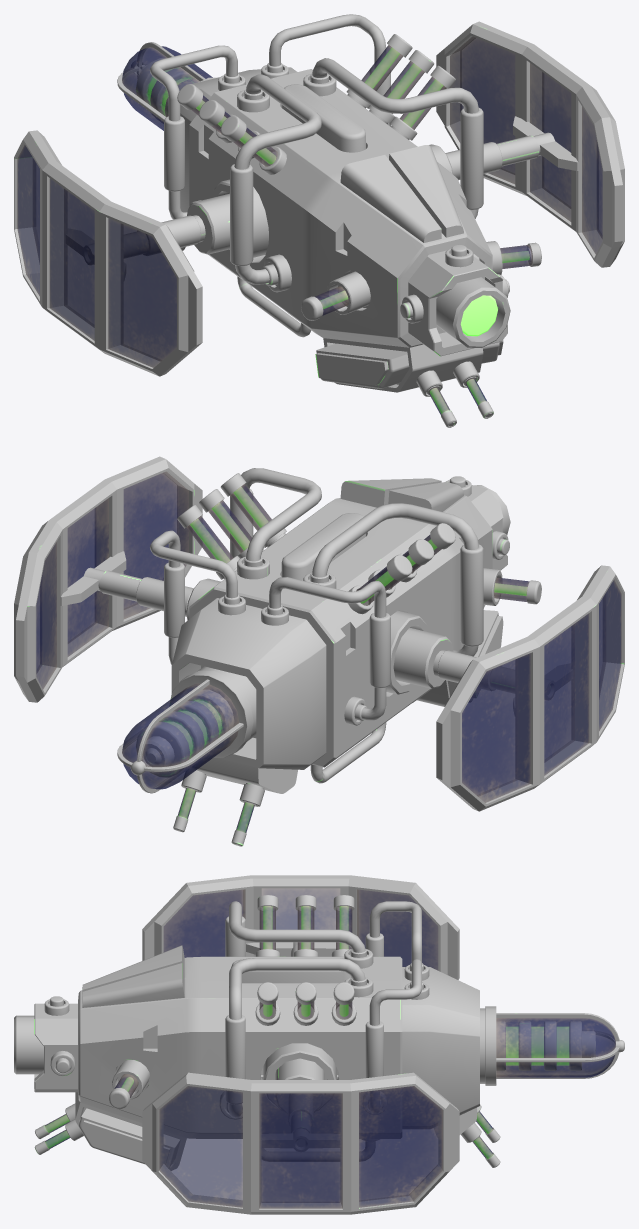
The picture shows the model from 3 angles, top to bottom: view 1: azimuth 30°, elevation 25°; view 2: azimuth 150°, elevation 25°; view 3: azimuth 270°, elevation 25°; orthographic projection. The views are drawn at different scales.
Parts seen in each view (by area): view 1: Main_Hull, Wings, Glass_Wing_Left, Glass_Wing_Right, Pipes_1, Pipes_2, Brackets, Front_Hull, Front_Lens, Wings_Outgoings, Glass_Back, Engine_Element (+18 smaller); view 2: Wings, Main_Hull, Back_Hull, Glass_Wing_Left, Glass_Wing_Right, Pipes_1, Pipes_2, Glass_Back, Brackets, Engine, Wings_Outgoings, Back_Light (+16 smaller); view 3: Main_Hull, Glass_Wing_Right, Wings, Back_Hull, Glass_Wing_Left, Pipes_1, Glass_Back, Pipes_2, Engine, Brackets, Front_Hull, Wings_Outgoings (+17 smaller).
Part boxes in pixels (x1,y1,x2,y2): Main_Hull: [189, 69, 541, 392]; Wings: [14, 21, 624, 376]; Glass_Wing_Left: [17, 145, 176, 367]; Glass_Wing_Right: [450, 36, 602, 254]; Pipes_1: [230, 58, 483, 284]; Pipes_2: [149, 14, 390, 219]; Brackets: [66, 116, 578, 279]; Front_Hull: [408, 250, 507, 356]; Front_Lens: [436, 277, 510, 347]; Wings_Outgoings: [187, 144, 452, 257]; Glass_Back: [122, 46, 212, 130]; Engine_Element: [281, 84, 365, 152]; Wings: [14, 456, 624, 811]; Main_Hull: [189, 478, 541, 767]; Back_Hull: [171, 598, 326, 793]; Glass_Wing_Left: [462, 580, 621, 802]; Glass_Wing_Right: [36, 471, 188, 689]; Pipes_1: [230, 468, 483, 656]; Pipes_2: [150, 530, 390, 720]; Glass_Back: [122, 683, 239, 789]; Brackets: [60, 551, 572, 713]; Engine: [136, 683, 238, 777]; Wings_Outgoings: [186, 578, 453, 694]; Back_Light: [130, 666, 256, 775]; Main_Hull: [75, 945, 402, 1170]; Glass_Wing_Right: [159, 1086, 442, 1208]; Wings: [142, 875, 459, 1214]; Back_Hull: [402, 967, 479, 1136]; Glass_Wing_Left: [163, 888, 438, 970]; Pipes_1: [225, 901, 365, 1117]; Glass_Back: [496, 1018, 615, 1077]; Pipes_2: [365, 901, 421, 1113]; Engine: [496, 1021, 595, 1070]; Brackets: [246, 942, 350, 1151]; Front_Hull: [34, 1003, 77, 1092]; Wings_Outgoings: [263, 1043, 336, 1113].
Bounding box in the file's own units: 44.9 × 21.22 × 54.4.
